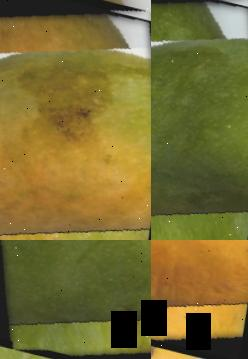PartiallyRipe: (0, 0, 151, 240)
Ripe: (151, 240, 248, 359)
Unripe: (151, 0, 248, 240), (0, 240, 151, 359)
